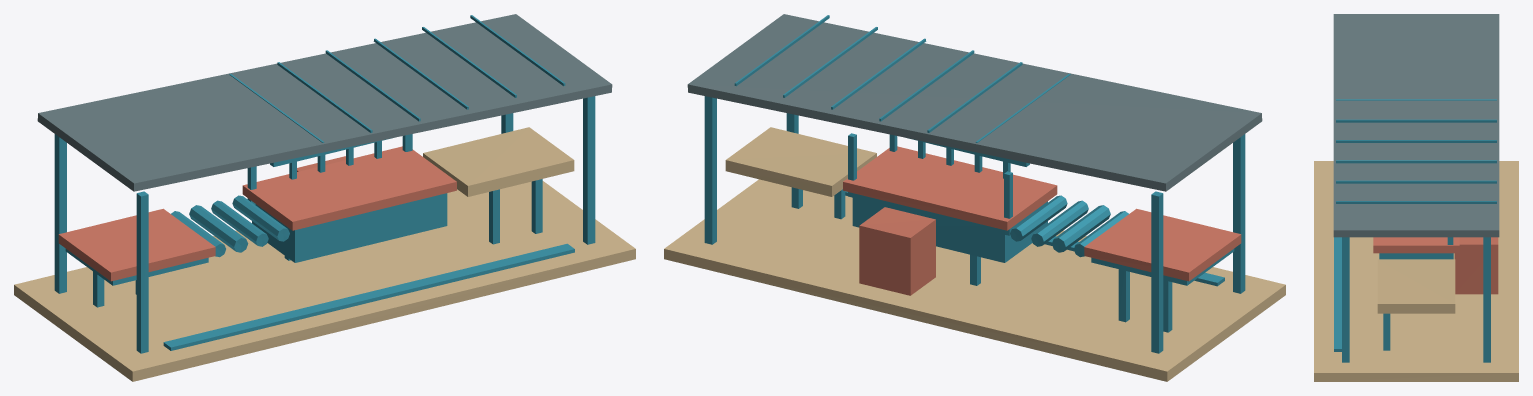
Rendered from washing-station.source.glb.
3 views of the same model, side by side, from view 1: azimuth 30°, elevation 25°; view 2: azimuth 150°, elevation 25°; view 3: azimuth 270°, elevation 25° (orthographic). The views are drawn at different scales.
Visible parts, largest first — view 1: washing-station-slim-sage-canopy-mesh, washing-station-non-slip-pad-mesh, washing-station-trough-timber-rim-mesh, washing-station-clean-output-table-mesh, washing-station-input-timber-rim-mesh, washing-station-central-wash-trough-mesh, washing-station-long-drain-channel-mesh, washing-station-left-front-post-mesh, washing-station-left-rear-post-mesh, washing-station-right-front-post-mesh, washing-station-powered-roller-mesh, washing-station-static-roller-3-mesh (+5 smaller); view 2: washing-station-slim-sage-canopy-mesh, washing-station-non-slip-pad-mesh, washing-station-trough-timber-rim-mesh, washing-station-input-timber-rim-mesh, washing-station-clean-output-table-mesh, washing-station-pump-filter-cabinet-mesh, washing-station-central-wash-trough-mesh, washing-station-left-rear-post-mesh, washing-station-left-front-post-mesh, washing-station-right-rear-post-mesh, washing-station-powered-roller-mesh, washing-station-static-roller-3-mesh (+4 smaller); view 3: washing-station-slim-sage-canopy-mesh, washing-station-non-slip-pad-mesh, washing-station-clean-output-table-mesh, washing-station-pump-filter-cabinet-mesh, washing-station-trough-timber-rim-mesh, washing-station-right-front-post-mesh, washing-station-right-rear-post-mesh, washing-station-long-drain-channel-mesh, washing-station-canopy-seam-5-mesh, washing-station-canopy-seam-7-mesh, washing-station-canopy-seam-8-mesh, washing-station-central-wash-trough-mesh (+4 smaller).
Part boxes in pixels (bbox=[...]): washing-station-slim-sage-canopy-mesh: bbox=[37, 14, 612, 191]; washing-station-non-slip-pad-mesh: bbox=[14, 181, 635, 381]; washing-station-trough-timber-rim-mesh: bbox=[242, 146, 456, 230]; washing-station-clean-output-table-mesh: bbox=[423, 127, 574, 196]; washing-station-input-timber-rim-mesh: bbox=[58, 208, 215, 281]; washing-station-central-wash-trough-mesh: bbox=[252, 193, 447, 262]; washing-station-long-drain-channel-mesh: bbox=[163, 243, 574, 350]; washing-station-left-front-post-mesh: bbox=[136, 191, 148, 353]; washing-station-left-rear-post-mesh: bbox=[54, 134, 66, 293]; washing-station-right-front-post-mesh: bbox=[583, 96, 595, 244]; washing-station-powered-roller-mesh: bbox=[189, 205, 248, 252]; washing-station-static-roller-3-mesh: bbox=[211, 200, 268, 246]; washing-station-slim-sage-canopy-mesh: bbox=[687, 14, 1262, 191]; washing-station-non-slip-pad-mesh: bbox=[664, 179, 1285, 381]; washing-station-trough-timber-rim-mesh: bbox=[843, 146, 1057, 230]; washing-station-input-timber-rim-mesh: bbox=[1084, 208, 1241, 281]; washing-station-clean-output-table-mesh: bbox=[725, 127, 876, 196]; washing-station-pump-filter-cabinet-mesh: bbox=[859, 207, 935, 295]; washing-station-central-wash-trough-mesh: bbox=[852, 193, 1047, 262]; washing-station-left-rear-post-mesh: bbox=[1151, 191, 1163, 353]; washing-station-left-front-post-mesh: bbox=[1233, 134, 1245, 293]; washing-station-right-rear-post-mesh: bbox=[704, 96, 716, 244]; washing-station-powered-roller-mesh: bbox=[1051, 205, 1110, 252]; washing-station-static-roller-3-mesh: bbox=[1031, 200, 1088, 246]; washing-station-slim-sage-canopy-mesh: bbox=[1333, 14, 1499, 237]; washing-station-non-slip-pad-mesh: bbox=[1314, 161, 1518, 381]; washing-station-clean-output-table-mesh: bbox=[1377, 259, 1455, 313]; washing-station-pump-filter-cabinet-mesh: bbox=[1454, 237, 1498, 294]; washing-station-trough-timber-rim-mesh: bbox=[1373, 237, 1459, 253]; washing-station-right-front-post-mesh: bbox=[1342, 237, 1349, 362]; washing-station-right-rear-post-mesh: bbox=[1483, 237, 1490, 362]; washing-station-long-drain-channel-mesh: bbox=[1334, 237, 1341, 351]; washing-station-canopy-seam-5-mesh: bbox=[1336, 119, 1496, 122]; washing-station-canopy-seam-7-mesh: bbox=[1336, 160, 1496, 163]; washing-station-canopy-seam-8-mesh: bbox=[1336, 180, 1496, 183]; washing-station-central-wash-trough-mesh: bbox=[1379, 253, 1453, 259].
Size of the model in its own units: 7.1 by 2.52 by 2.9.
